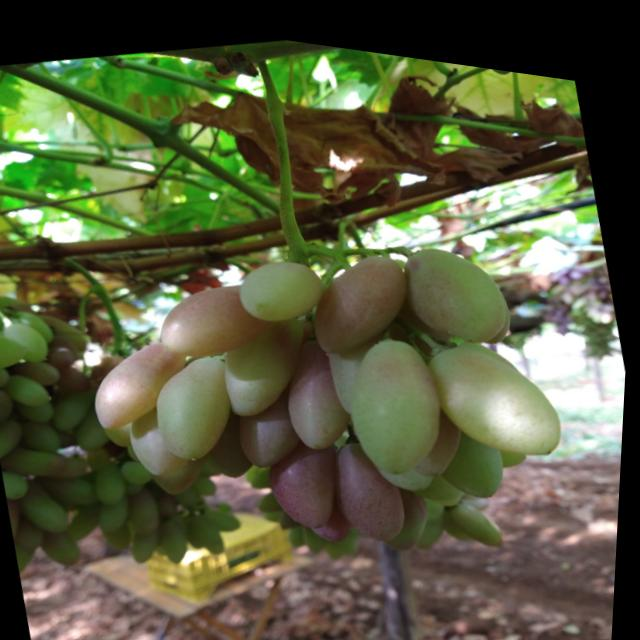grapes: (427, 309, 575, 461), (336, 313, 461, 475), (297, 228, 426, 358), (401, 219, 515, 343), (152, 260, 283, 367), (147, 339, 250, 465), (85, 327, 202, 436), (217, 306, 324, 415), (332, 418, 417, 541), (278, 331, 367, 447), (266, 425, 359, 532), (235, 240, 328, 324), (232, 381, 313, 468), (440, 414, 513, 493), (129, 399, 190, 477), (447, 479, 513, 543), (2, 434, 74, 486), (24, 477, 77, 537), (381, 441, 446, 488), (213, 418, 264, 477), (2, 314, 55, 367), (158, 448, 214, 498), (19, 409, 68, 459), (7, 366, 56, 412), (46, 466, 100, 507), (94, 454, 136, 506), (412, 494, 459, 540), (129, 480, 169, 534), (44, 520, 89, 568), (52, 387, 99, 432), (11, 303, 59, 347), (75, 404, 118, 452), (19, 351, 68, 393), (66, 499, 111, 543), (0, 322, 36, 376), (0, 412, 35, 464), (99, 490, 139, 534), (161, 512, 196, 561), (17, 531, 52, 580), (17, 511, 53, 552), (133, 523, 169, 562), (9, 493, 35, 547), (209, 495, 248, 530), (492, 421, 532, 455), (57, 359, 95, 394), (21, 393, 60, 426), (186, 505, 218, 544), (123, 450, 157, 485), (5, 465, 36, 500), (46, 341, 80, 371), (0, 384, 21, 423), (207, 523, 230, 549), (0, 311, 8, 335)
